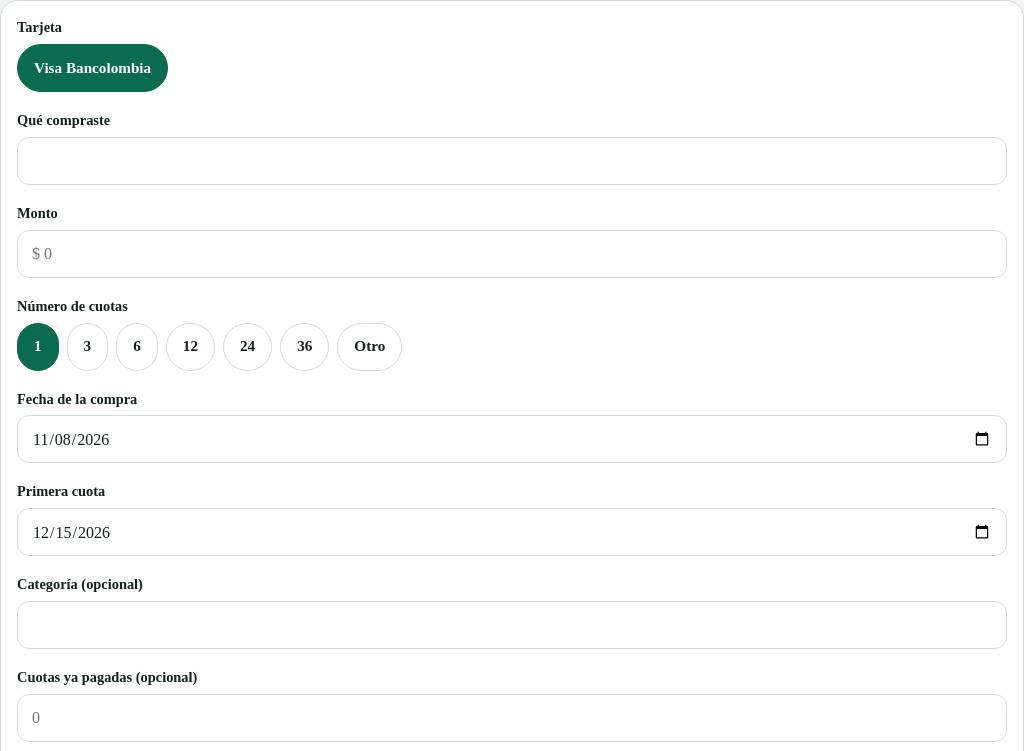
it: PurchaseForm › Otro pide el número
Expected: the field labelled "¿Cuántas cuotas?" is not shown
Step 1. Click the radio button labelled "Otro" → {"x": 370, "y": 346}, box x1=337 y1=322 x2=402 y2=370
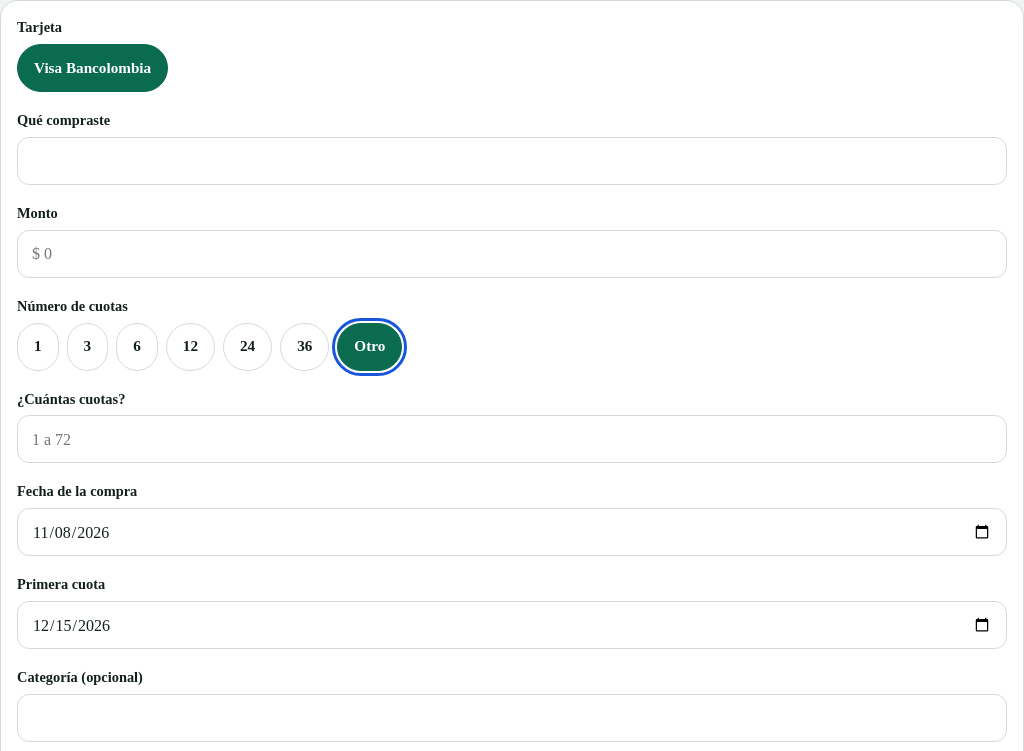
Expected: the field labelled "¿Cuántas cuotas?" is shown, x1=17 y1=415 x2=1007 y2=463
